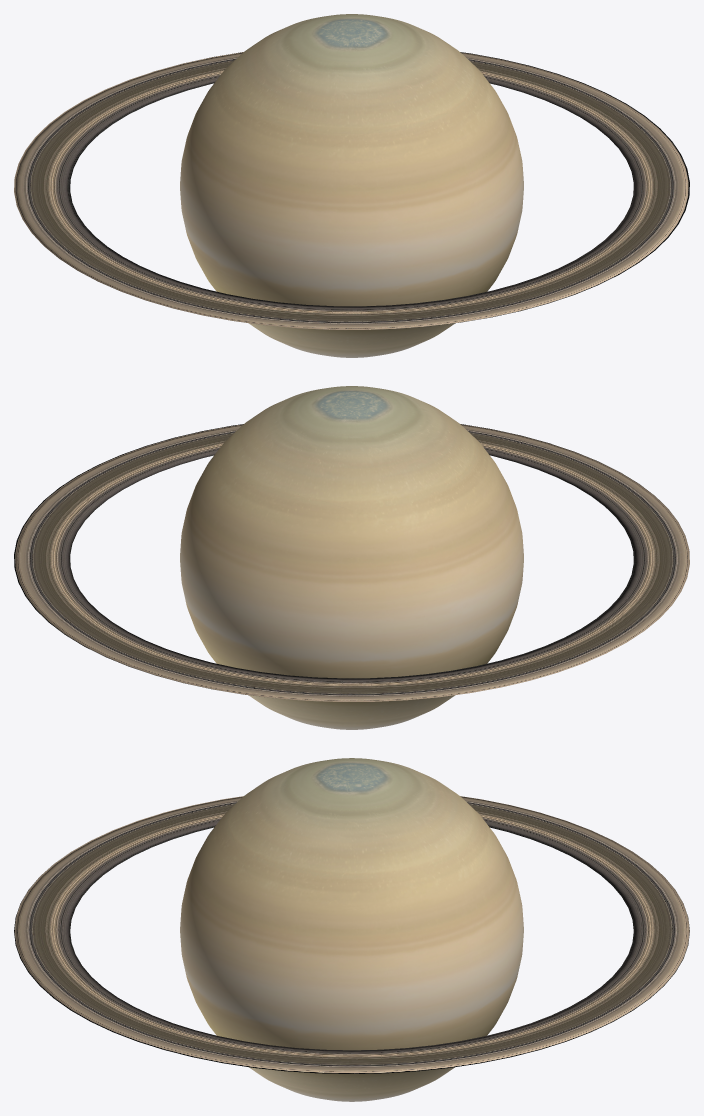
Rendered from saturn.glb.
3 views of the same model, one above another, from view 1: azimuth 30°, elevation 25°; view 2: azimuth 150°, elevation 25°; view 3: azimuth 270°, elevation 25° (orthographic).
Parts seen in each view (by area): view 1: Sphere, Circle; view 2: Sphere, Circle; view 3: Sphere, Circle.
Boxes of the visible parts, x1,y1,x2,y2 form: Sphere: [180, 14, 523, 357]; Circle: [14, 52, 689, 329]; Sphere: [180, 386, 523, 729]; Circle: [14, 424, 689, 701]; Sphere: [180, 758, 523, 1101]; Circle: [14, 796, 689, 1073].
Bounding box in the file's own units: 393 × 200 × 393.
2 materials, 2 textured.
